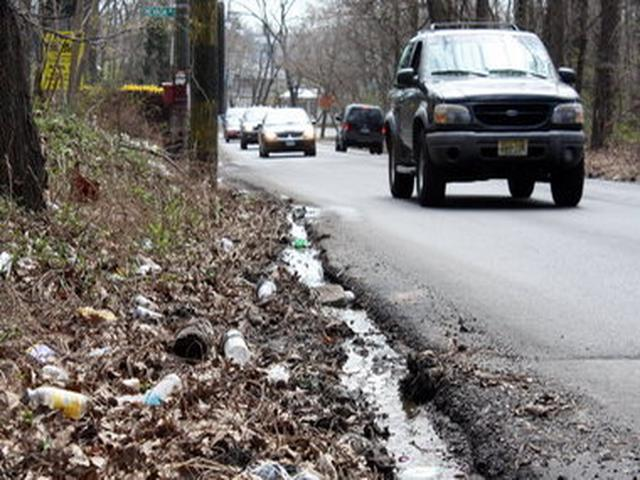garbage: (42, 269, 311, 458)
